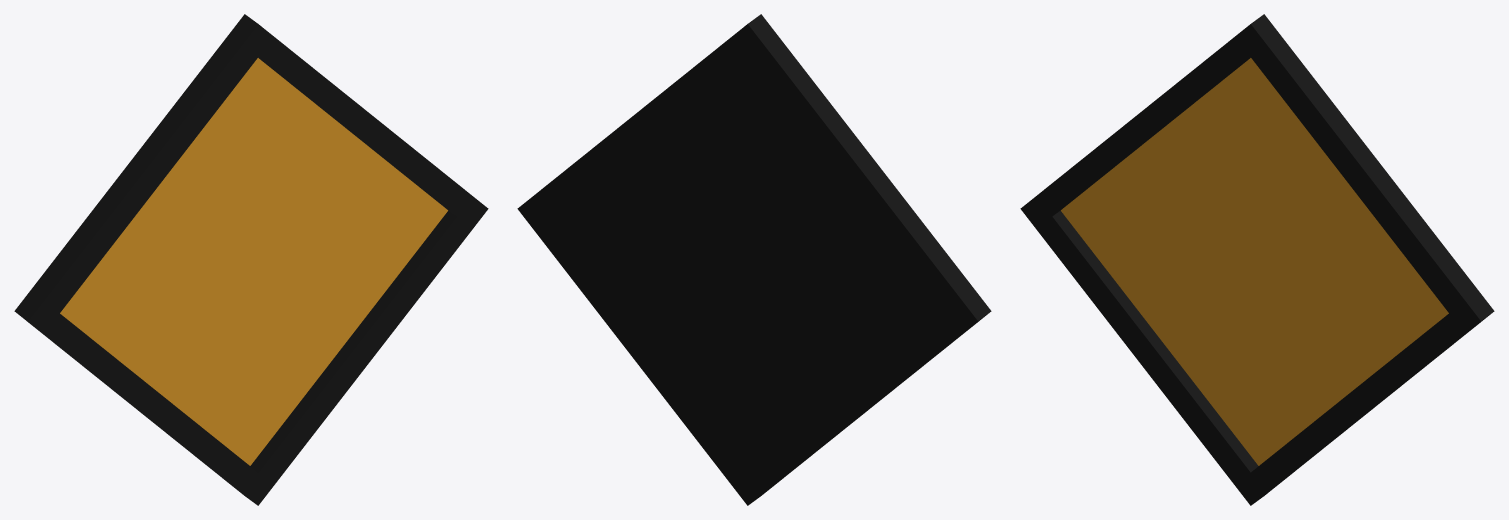
Rendered from dot.glb.
3 views of the same model, side by side, from view 1: azimuth 30°, elevation 25°; view 2: azimuth 150°, elevation 25°; view 3: azimuth 330°, elevation 25° (orthographic).
Visible parts, largest first — view 1: Circle; view 2: Circle; view 3: Circle.
Boxes of the visible parts, x1,y1,x2,y2 form: Circle: (14,14,488,505); Circle: (517,14,991,505); Circle: (1020,14,1494,505).
Bounding box in the file's own units: 2 × 2 × 0.1019.
